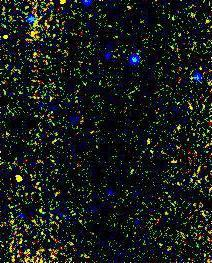star: (5, 162, 35, 192)
